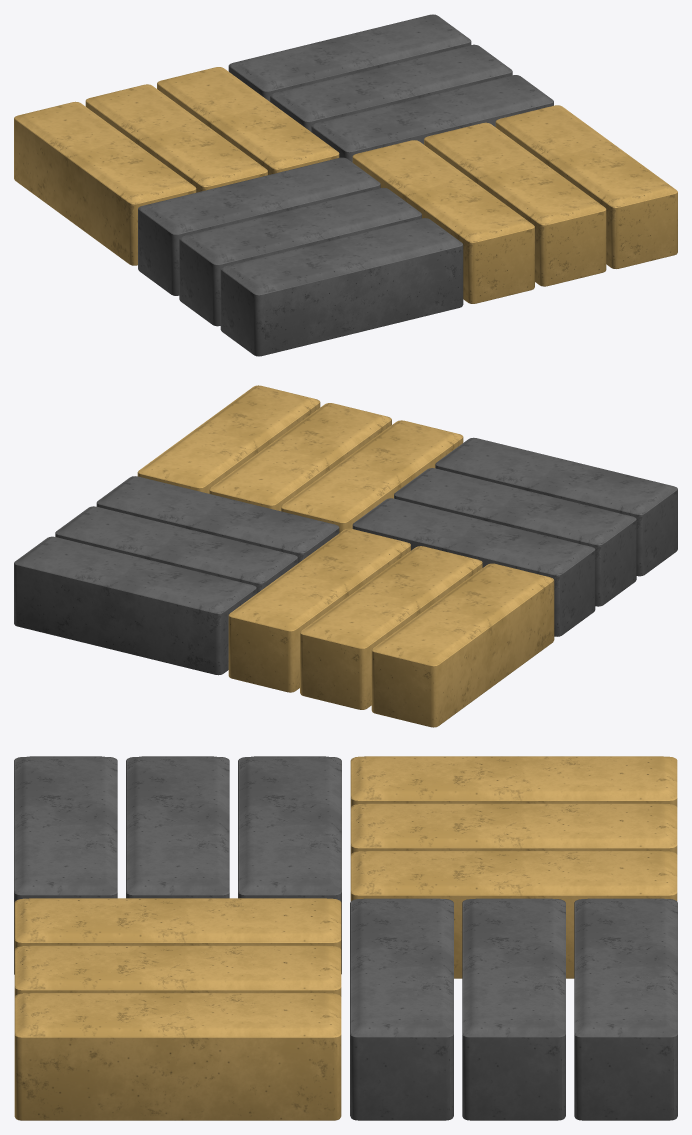
The model's file is basket-weave.glb.
3 views of the same model, one above another, from view 1: azimuth 30°, elevation 25°; view 2: azimuth 150°, elevation 25°; view 3: azimuth 270°, elevation 25° (orthographic). The views are drawn at different scales.
Parts seen in each view (by area): view 1: Colonial Classic Mini.033, Colonial Classic Mini.032, Colonial Classic Mini.027, Colonial Classic Mini.036, Colonial Classic Mini.026, Colonial Classic Mini.035, Colonial Classic Mini.034, Colonial Classic Mini.025, Colonial Classic Mini.029, Colonial Classic Mini.028, Colonial Classic Mini.031, Colonial Classic Mini.030; view 2: Colonial Classic Mini.029, Colonial Classic Mini.032, Colonial Classic Mini.030, Colonial Classic Mini.031, Colonial Classic Mini.035, Colonial Classic Mini.034, Colonial Classic Mini.033, Colonial Classic Mini.027, Colonial Classic Mini.025, Colonial Classic Mini.028, Colonial Classic Mini.036, Colonial Classic Mini.026; view 3: Colonial Classic Mini.036, Colonial Classic Mini.029, Colonial Classic Mini.025, Colonial Classic Mini.028, Colonial Classic Mini.030, Colonial Classic Mini.031, Colonial Classic Mini.026, Colonial Classic Mini.027, Colonial Classic Mini.032, Colonial Classic Mini.033, Colonial Classic Mini.035, Colonial Classic Mini.034.
Part boxes in pixels (box(x1,y1,x2,y2)): Colonial Classic Mini.033: box(220, 218, 463, 356); Colonial Classic Mini.032: box(14, 101, 196, 265); Colonial Classic Mini.027: box(352, 140, 534, 303); Colonial Classic Mini.036: box(495, 105, 677, 268); Colonial Classic Mini.026: box(424, 122, 606, 286); Colonial Classic Mini.035: box(138, 157, 380, 295); Colonial Classic Mini.034: box(179, 187, 421, 326); Colonial Classic Mini.025: box(311, 75, 553, 162); Colonial Classic Mini.029: box(228, 14, 471, 101); Colonial Classic Mini.028: box(270, 44, 512, 131); Colonial Classic Mini.031: box(85, 84, 267, 192); Colonial Classic Mini.030: box(157, 67, 339, 174); Colonial Classic Mini.029: box(14, 536, 256, 675); Colonial Classic Mini.032: box(371, 563, 554, 727); Colonial Classic Mini.030: box(228, 528, 410, 692); Colonial Classic Mini.031: box(300, 546, 482, 709); Colonial Classic Mini.035: box(352, 498, 595, 636); Colonial Classic Mini.034: box(394, 468, 636, 606); Colonial Classic Mini.033: box(435, 437, 677, 576); Colonial Classic Mini.027: box(281, 420, 463, 532); Colonial Classic Mini.025: box(96, 476, 339, 563); Colonial Classic Mini.028: box(55, 506, 297, 593); Colonial Classic Mini.036: box(137, 385, 320, 493); Colonial Classic Mini.026: box(209, 403, 391, 511); Colonial Classic Mini.036: box(14, 993, 341, 1120); Colonial Classic Mini.029: box(574, 898, 677, 1120); Colonial Classic Mini.025: box(350, 898, 453, 1120); Colonial Classic Mini.028: box(462, 898, 565, 1120); Colonial Classic Mini.030: box(350, 851, 677, 978); Colonial Classic Mini.031: box(350, 803, 677, 854); Colonial Classic Mini.026: box(14, 945, 341, 996); Colonial Classic Mini.027: box(14, 898, 341, 949); Colonial Classic Mini.032: box(350, 756, 677, 807); Colonial Classic Mini.033: box(14, 756, 117, 974); Colonial Classic Mini.035: box(238, 756, 341, 974); Colonial Classic Mini.034: box(126, 756, 229, 898).
Bounding box in the file's own units: 0.4064 × 0.0603 × 0.4064.
Materials: 2 (2 with a texture image).
